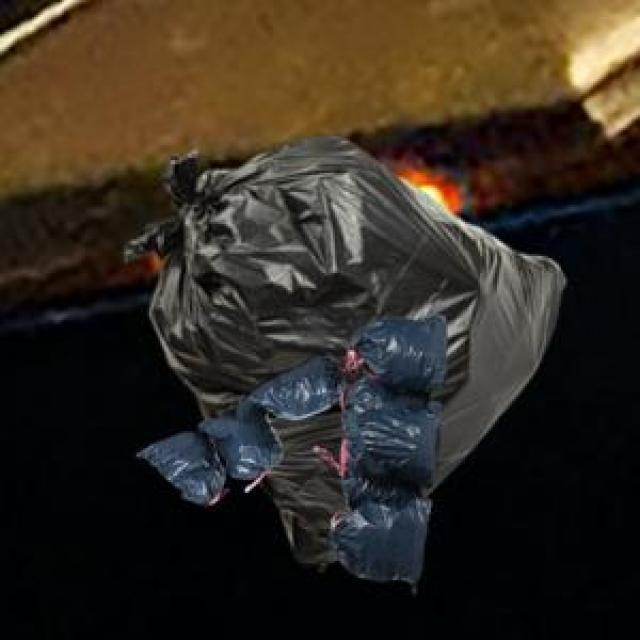Trashbag: (332, 491, 436, 589), (346, 392, 442, 485), (361, 308, 450, 384), (256, 355, 348, 427), (210, 405, 268, 480), (152, 440, 216, 497)
